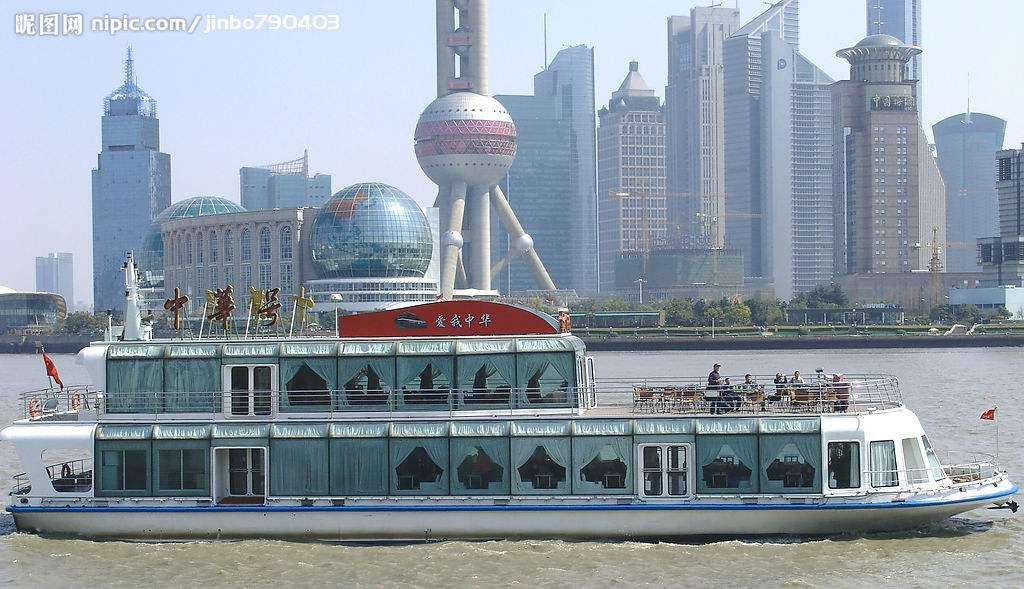otherboat: (23, 274, 987, 536)
